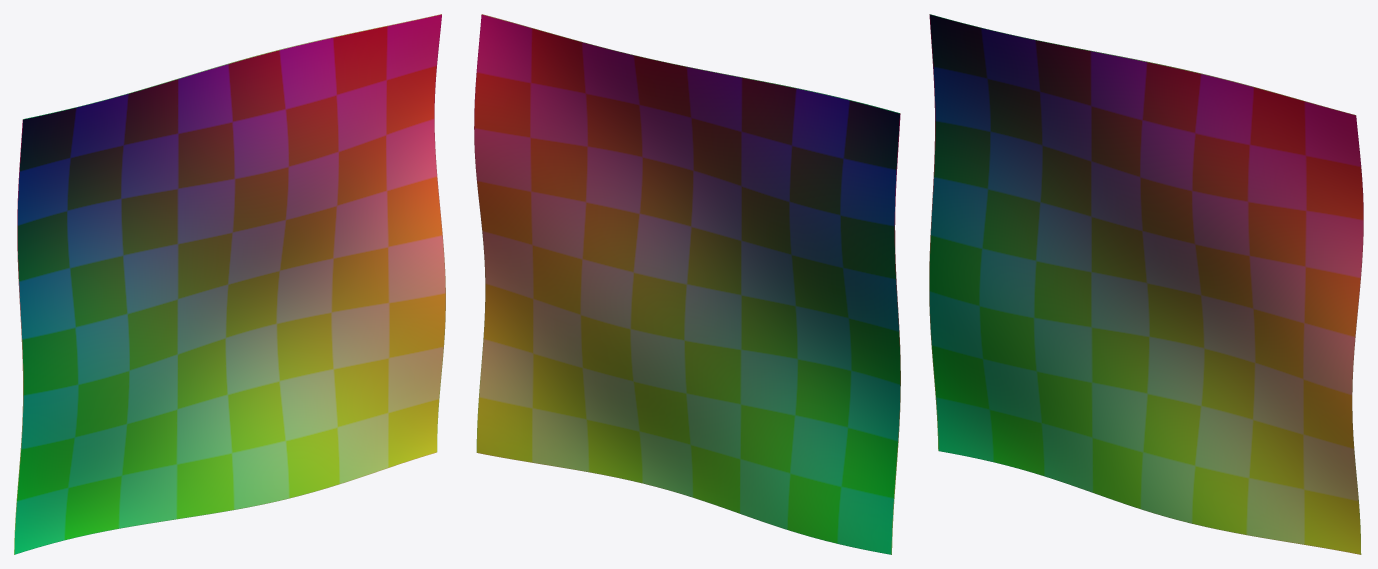
The model's file is Tile_+015_+011.obj.
The picture shows the model from 3 angles, left to right: view 1: azimuth 30°, elevation 25°; view 2: azimuth 150°, elevation 25°; view 3: azimuth 330°, elevation 25°; orthographic projection.
Size of the model in its own units: 100 by 100 by 5.65.
